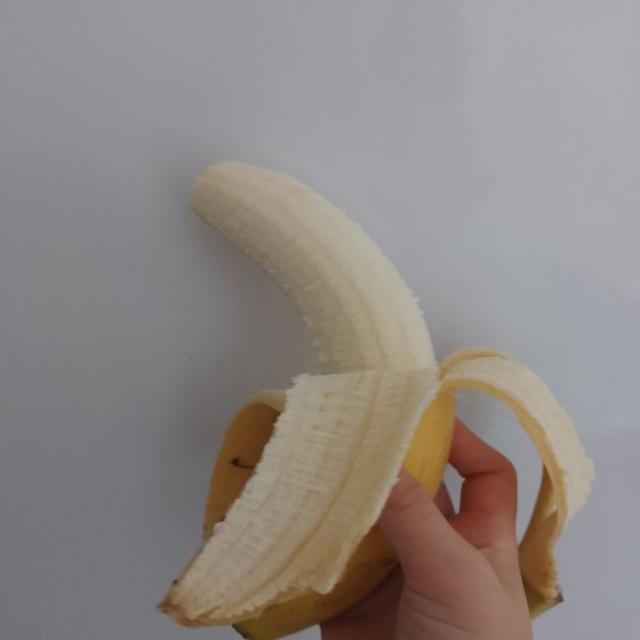banana: (160, 162, 593, 639)
